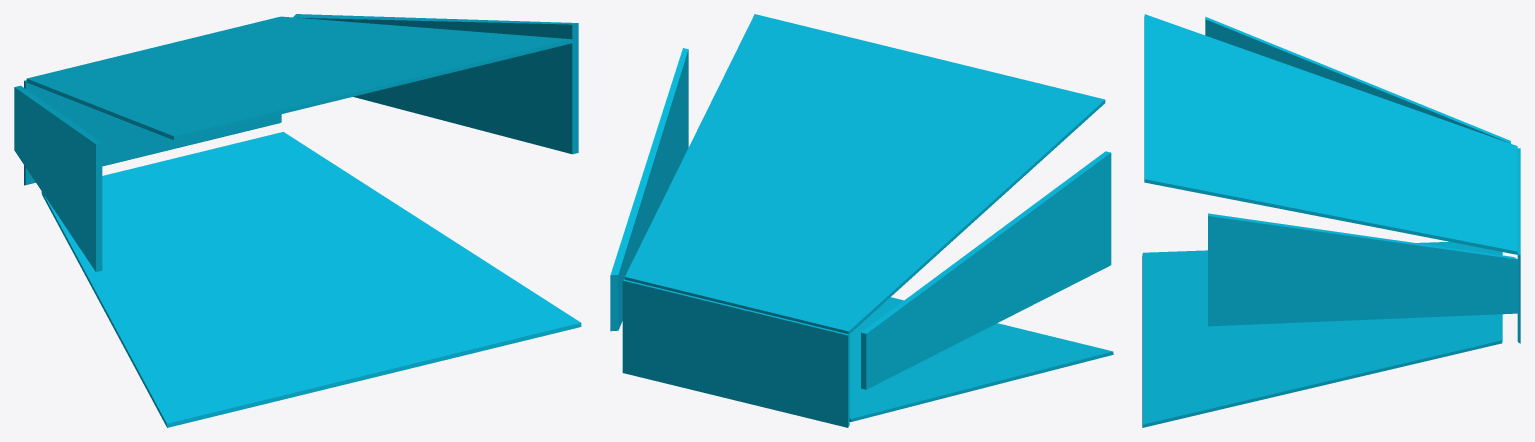
File: BridgeGlass.glb
The picture shows the model from 3 angles, left to right: view 1: azimuth 30°, elevation 25°; view 2: azimuth 150°, elevation 25°; view 3: azimuth 270°, elevation 25°; orthographic projection. The views are drawn at different scales.
Parts seen in each view (by area): view 1: Window.001, Window, Window.011, Window.012, Window.010; view 2: Window, Window.012, Window.010, Window.001, Window.011; view 3: Window, Window.001, Window.011, Window.012, Window.010.
Boxes of the visible parts, box(x1,y1,x2,y2) form: Window.001: box(41, 132, 581, 427); Window: box(26, 16, 572, 140); Window.011: box(293, 14, 578, 154); Window.012: box(14, 85, 102, 271); Window.010: box(24, 80, 281, 185); Window: box(625, 14, 1105, 334); Window.012: box(861, 151, 1111, 389); Window.010: box(622, 279, 849, 427); Window.001: box(849, 297, 1113, 421); Window.011: box(610, 48, 688, 331); Window: box(1144, 14, 1517, 254); Window.001: box(1142, 241, 1502, 427); Window.011: box(1208, 213, 1518, 326); Window.012: box(1205, 16, 1510, 143); Window.010: box(1517, 148, 1520, 343).
Bounding box in the file's own units: 5.59 × 3.18 × 4.44.
